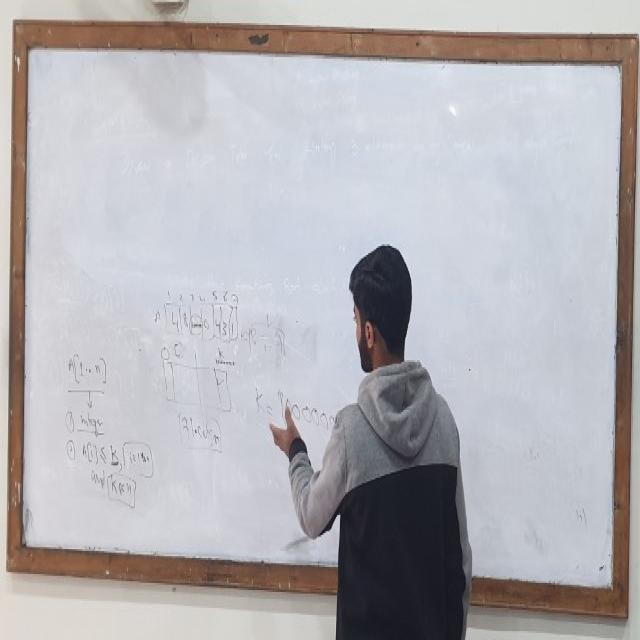Instructor: (321, 242, 476, 632)
White-board: (15, 36, 632, 606)
